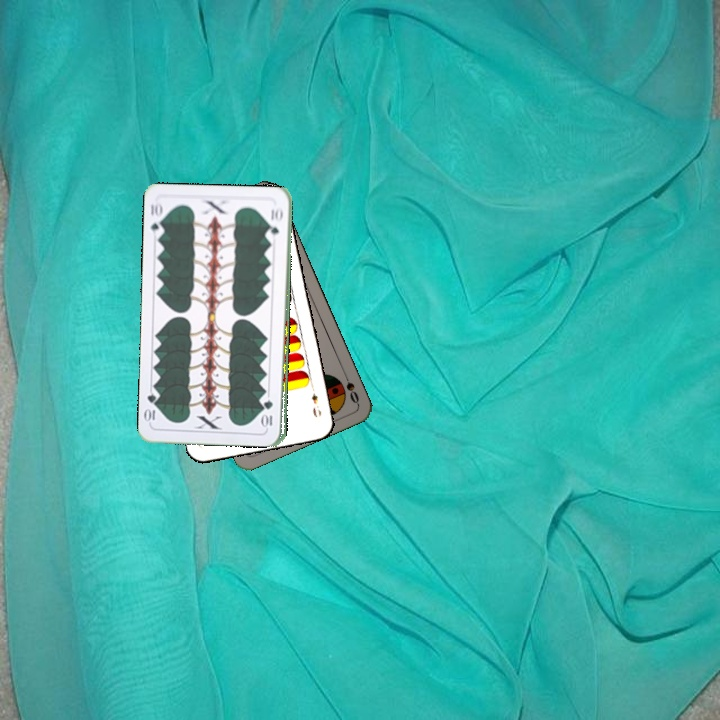E9: (308, 389, 324, 420)
G10: (147, 198, 166, 239), (262, 396, 275, 430)
SO: (339, 367, 361, 406)
